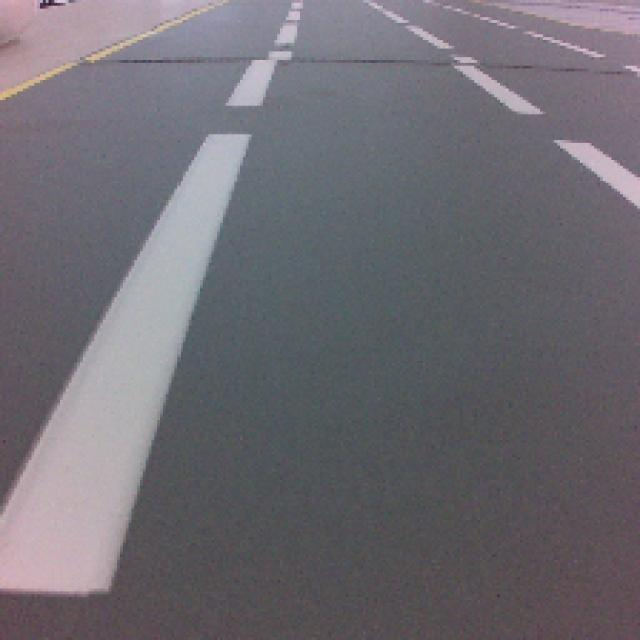Guard rail: (0, 132, 254, 591)
